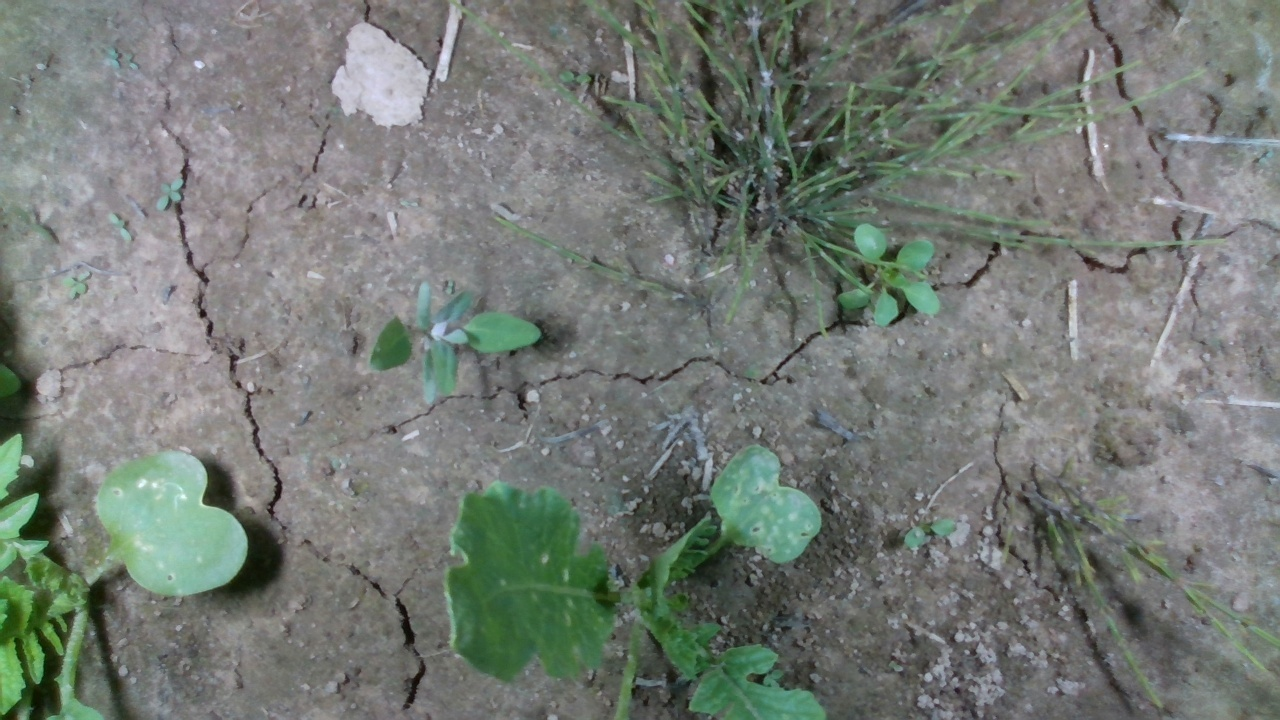weed: (901, 515, 957, 551), (154, 175, 185, 214), (105, 210, 134, 248), (62, 266, 92, 302)
